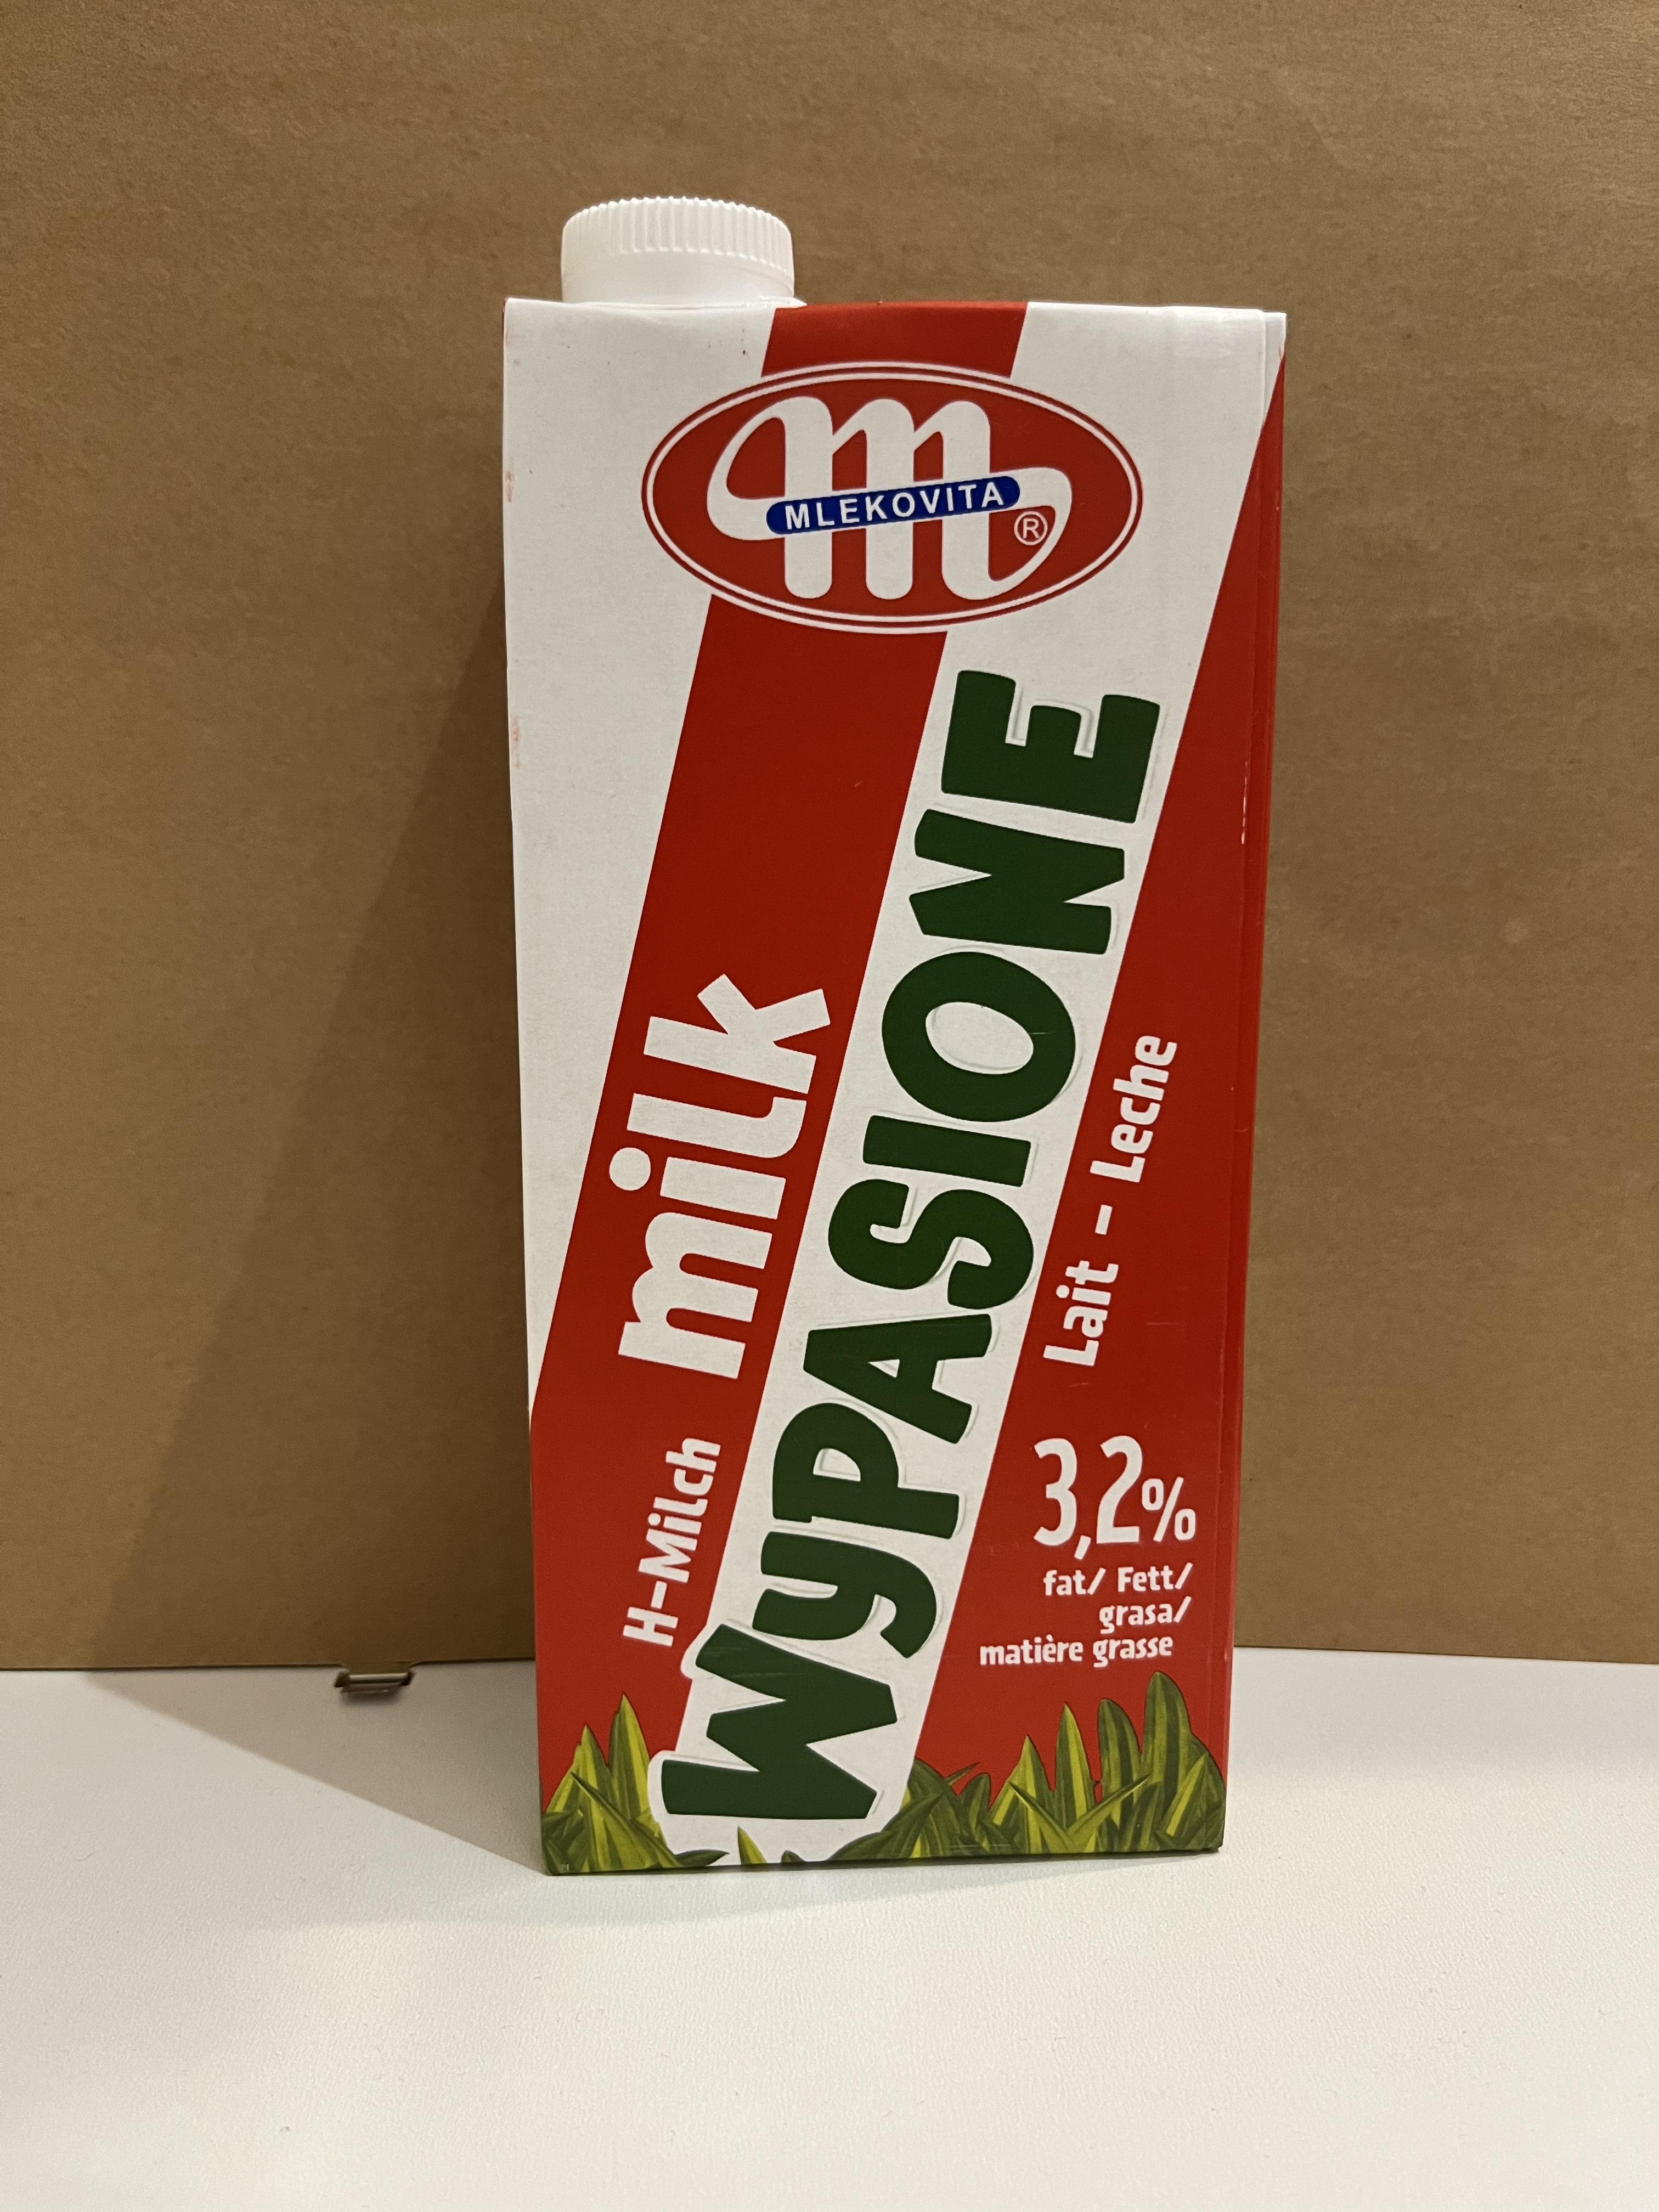Milk: (500, 303, 1234, 1876)
